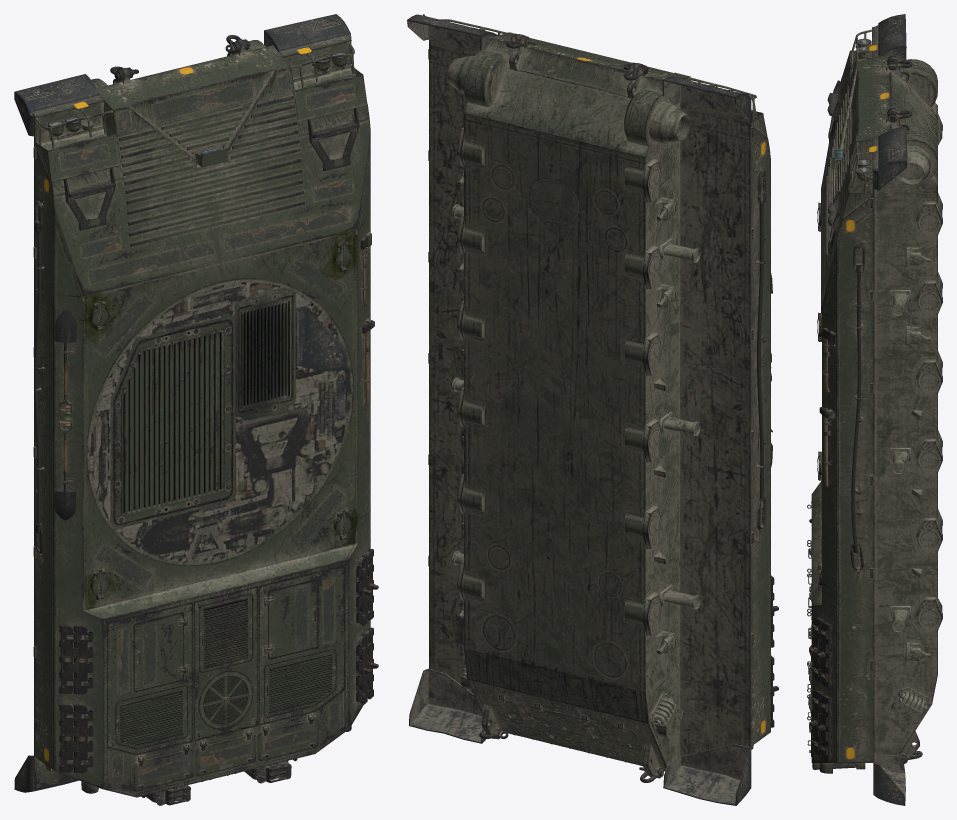
The model's file is Hull.glb.
3 renders of one model, left to right at view 1: azimuth 30°, elevation 25°; view 2: azimuth 150°, elevation 25°; view 3: azimuth 270°, elevation 25°, orthographic. The views are drawn at different scales.
Parts seen in each view (by area): view 1: set_0_group_0; view 2: set_0_group_0; view 3: set_0_group_0.
Boxes of the visible parts, x1,y1,x2,y2 form: set_0_group_0: (14,14,378,805); set_0_group_0: (407,14,778,805); set_0_group_0: (807,14,942,805).
Bounding box in the file's own units: 3.44 × 7.08 × 1.32.
1 material, 1 textured.
